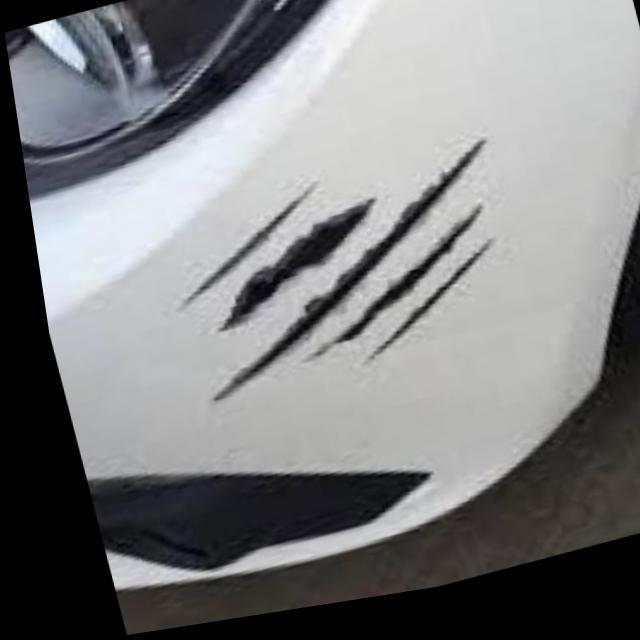crack: (148, 147, 489, 412)
